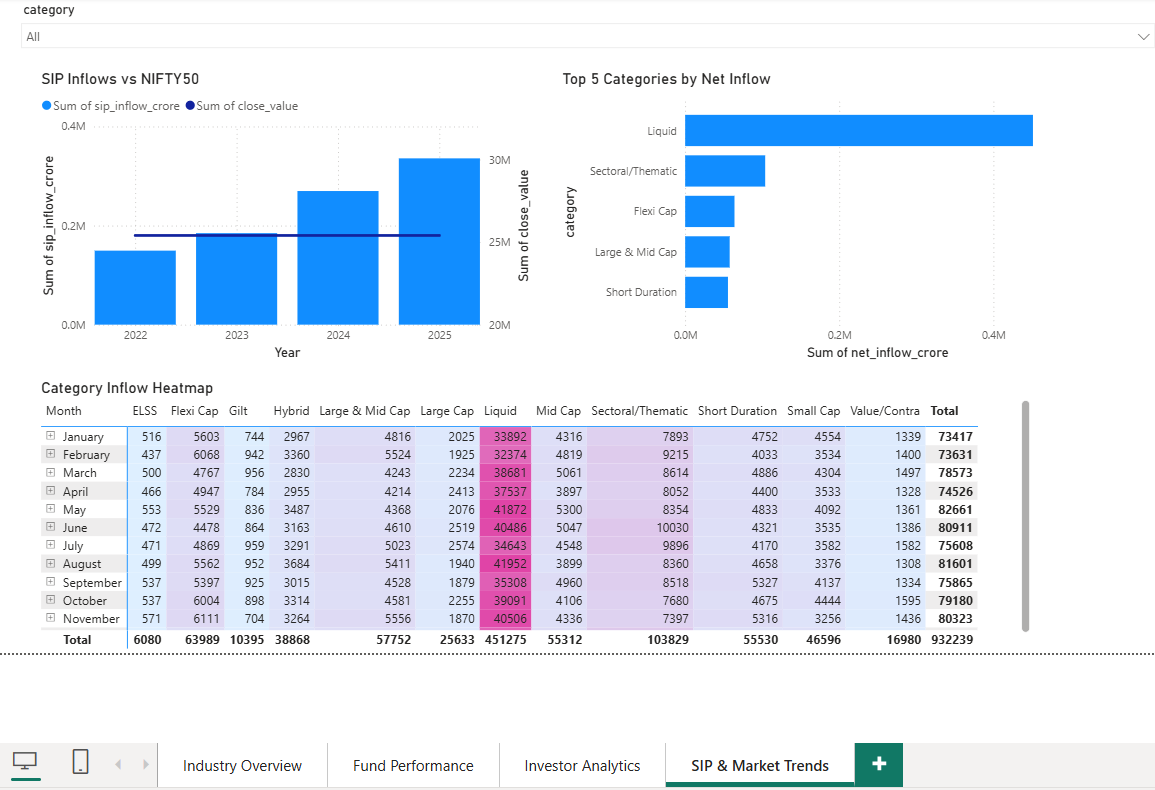

What the dashboard file says about the page in this screenshot:
{"tool":"powerbi","page":{"name":"SIP & Market Trends","canvas":[1280,720],"ordinal":3},"visuals":[{"type":"lineClusteredColumnComboChart","title":"SIP Inflows vs NIFTY50","fields":{"Category":["04_monthly_sip_inflows.month.Variation.Date Hierarchy.Year","04_monthly_sip_inflows.month.Variation.Date Hierarchy.Quarter","04_monthly_sip_inflows.month.Variation.Date Hierarchy.Month","04_monthly_sip_inflows.month.Variation.Date Hierarchy.Day"],"Y":["Sum(04_monthly_sip_inflows.sip_inflow_crore)"],"Y2":["Sum(10_benchmark_indices.close_value)"]},"box":[42.5,79.6,547.5,323.8],"z":0},{"type":"pivotTable","title":"Category Inflow Heatmap","fields":{"Rows":["05_category_inflows.month.Variation.Date Hierarchy.Month","05_category_inflows.month.Variation.Date Hierarchy.Day"],"Columns":["05_category_inflows.category"],"Values":["Sum(05_category_inflows.net_inflow_crore)"]},"box":[42.5,418.5,1095,301.9],"z":1000},{"type":"clusteredBarChart","title":"Top 5 Categories by Net Inflow","fields":{"Category":["05_category_inflows.category"],"Y":["Sum(05_category_inflows.net_inflow_crore)"]},"box":[614.8,79.6,581.8,323.8],"z":2000},{"type":"slicer","fields":{"Values":["05_category_inflows.category"]},"box":[15.1,0,1265.2,68.6],"z":3000}]}

Visuals, with their boxes on the page's 1280x720 design canvas (x1, y1, x2, y2). These are canvas units, not pixel positions in the 1155x790 screenshot, which may show the page scaled, cropped or inside an application window:
"SIP Inflows vs NIFTY50" lineClusteredColumnComboChart: bbox=[42, 80, 590, 403]
"Category Inflow Heatmap" pivotTable: bbox=[42, 418, 1138, 720]
"Top 5 Categories by Net Inflow" clusteredBarChart: bbox=[615, 80, 1197, 403]
slicer - 05_category_inflows.category: bbox=[15, 0, 1280, 69]
